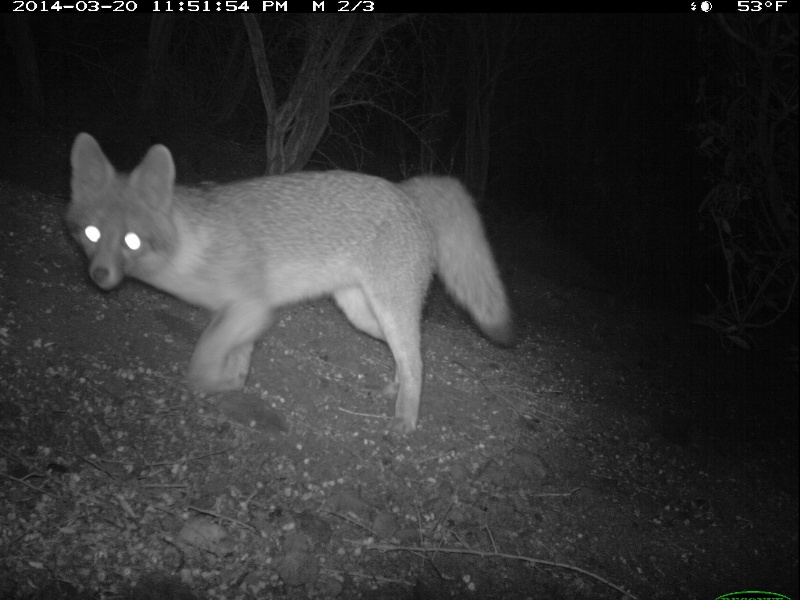fox: (61, 124, 517, 448)
